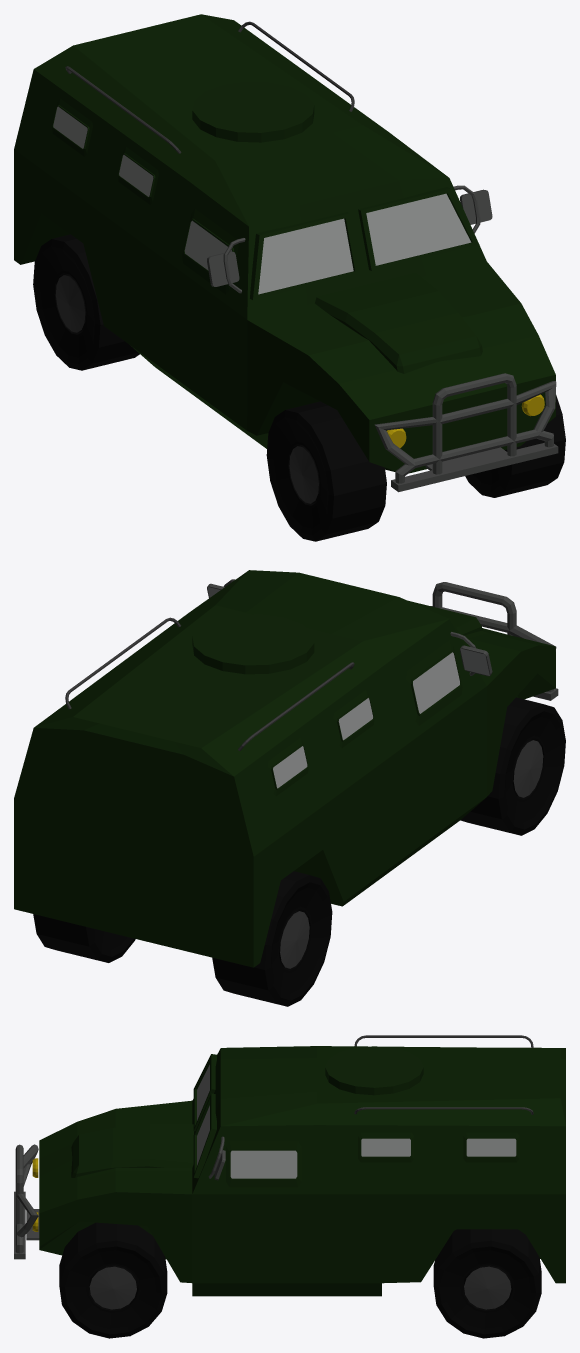
File: russian_tigr.fbx
The picture shows the model from 3 angles, top to bottom: view 1: azimuth 30°, elevation 25°; view 2: azimuth 150°, elevation 25°; view 3: azimuth 270°, elevation 25°; orthographic projection. The views are drawn at different scales.
Parts seen in each view (by area): view 1: Tigr, Wheels2, Wheels4, Wheel1; view 2: Tigr, Wheels4, Wheels2, Wheels3; view 3: Tigr, Wheel1, Wheels3.
Boxes of the visible parts, x1,y1,x2,y2 form: Tigr: (14,14,558,492); Wheels2: (266,401,386,541); Wheels4: (33,234,139,370); Wheel1: (465,395,565,497); Tigr: (14,570,558,967); Wheels4: (212,871,332,1006); Wheels2: (460,697,565,835); Wheels3: (33,914,135,962); Tigr: (14,1035,565,1296); Wheel1: (59,1222,167,1338); Wheels3: (433,1229,541,1338).
Bounding box in the file's own units: 525 × 507 × 1121.
